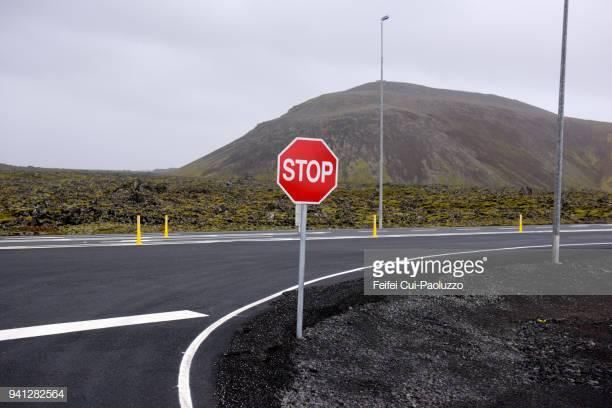Pole: (296, 208, 306, 339)
Sign: (274, 137, 340, 206)
